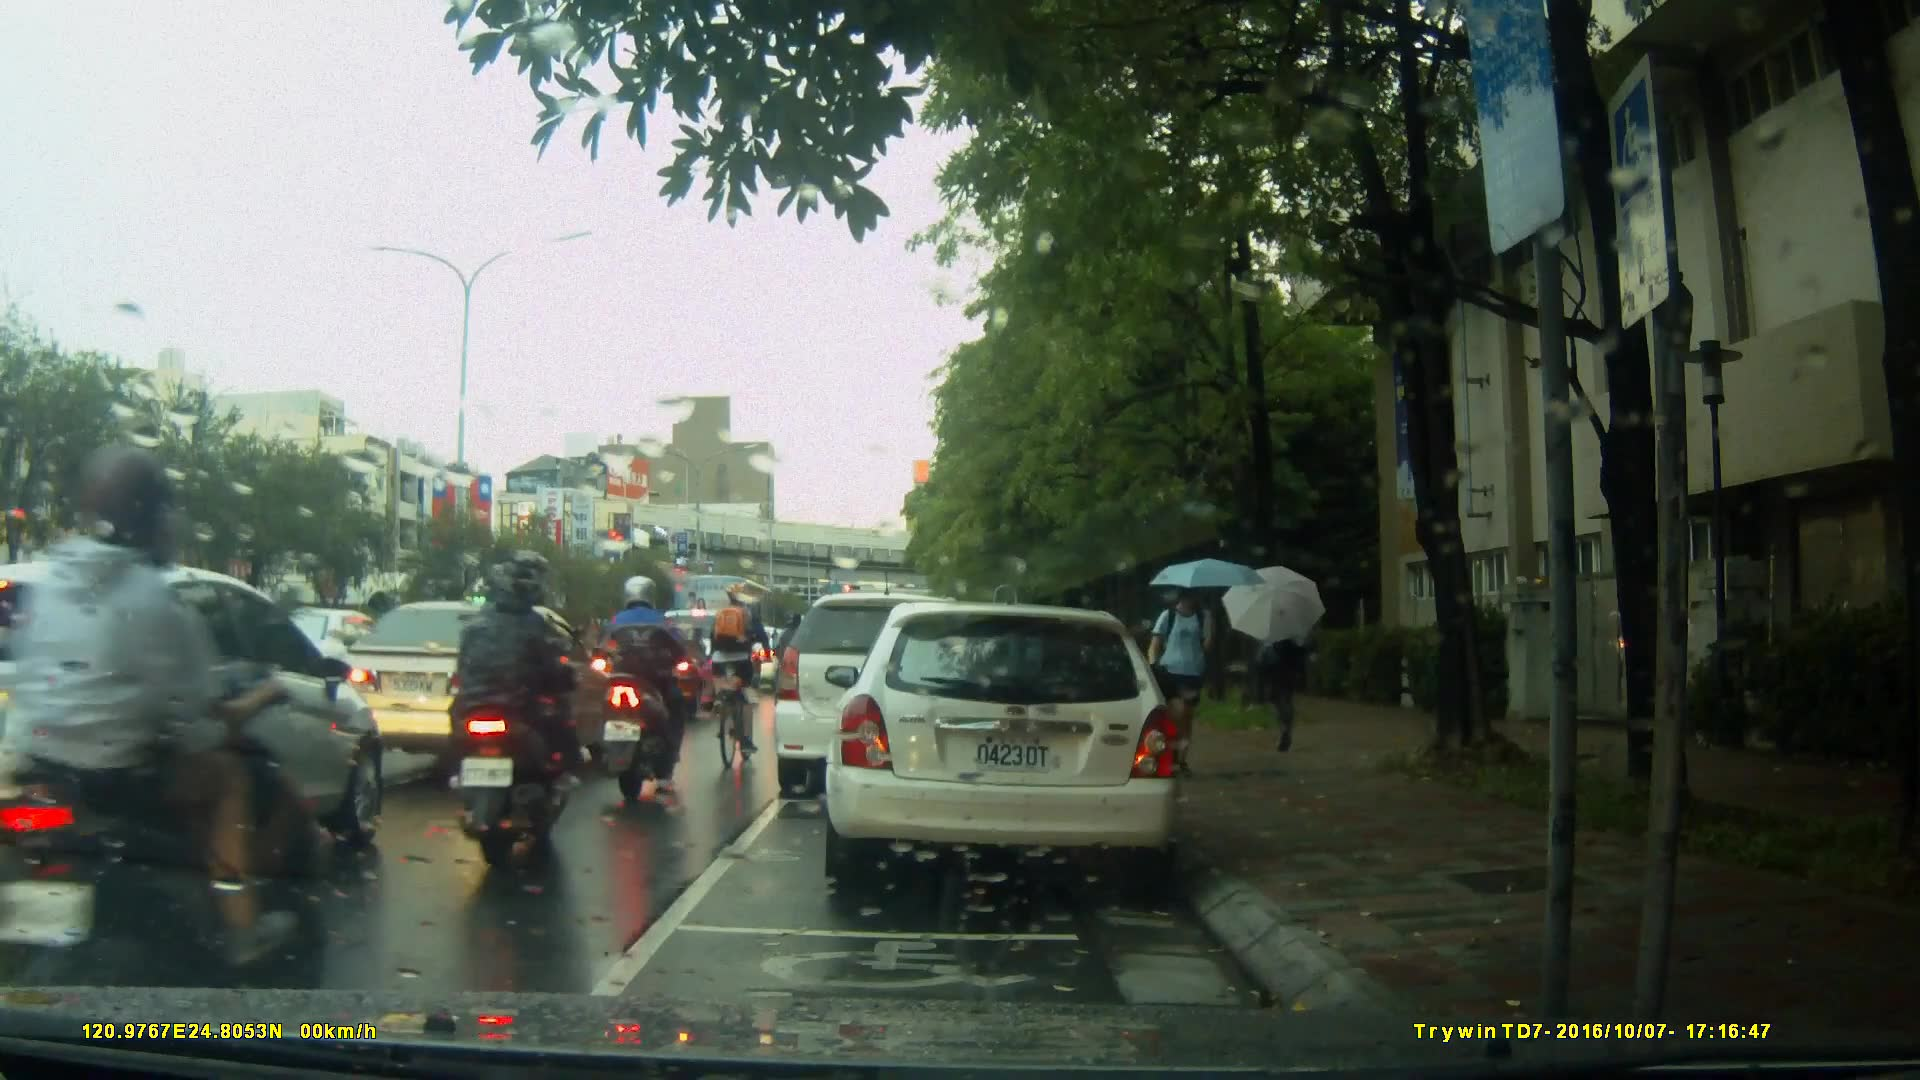pedestrian: (1155, 564, 1222, 794), (1264, 586, 1312, 754)
rider: (1, 458, 329, 1035), (456, 553, 584, 882), (605, 578, 706, 804), (717, 582, 781, 778)
vehicle: (1, 554, 390, 909), (835, 594, 1194, 898), (314, 595, 599, 789), (776, 590, 1026, 784), (585, 620, 716, 721), (670, 572, 789, 673)
